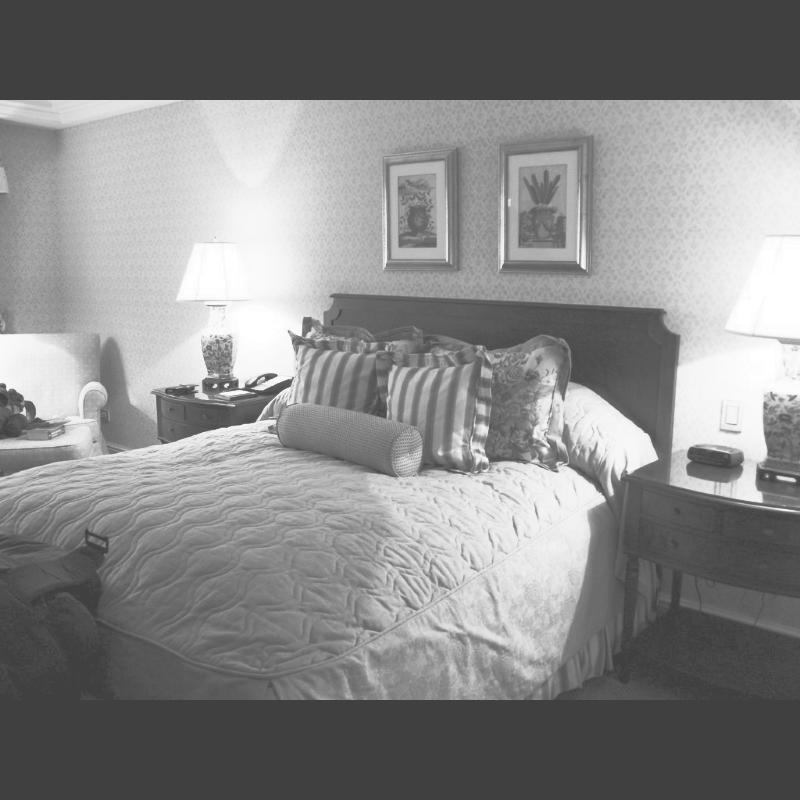pillow: (368, 344, 485, 476), (273, 317, 419, 413), (266, 328, 380, 432)
